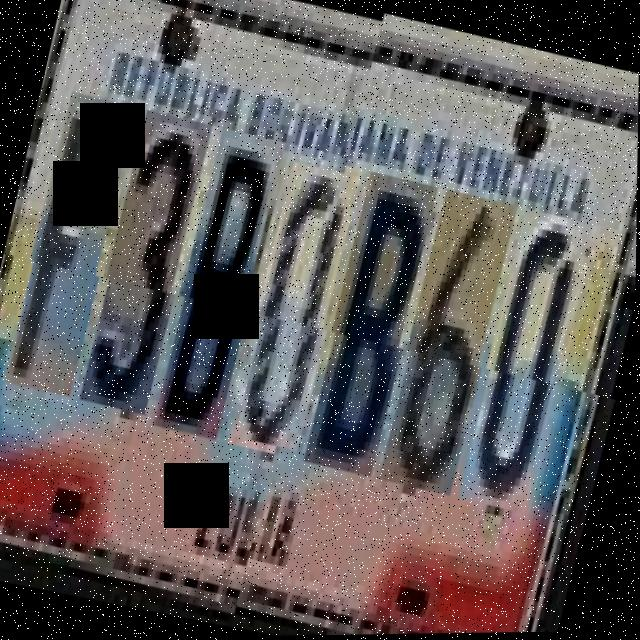0: (460, 213, 597, 522), (231, 159, 367, 459)
3: (83, 108, 220, 417)
6: (380, 194, 523, 504)
B: (156, 127, 291, 440), (305, 177, 442, 485)
F: (7, 90, 144, 399)
